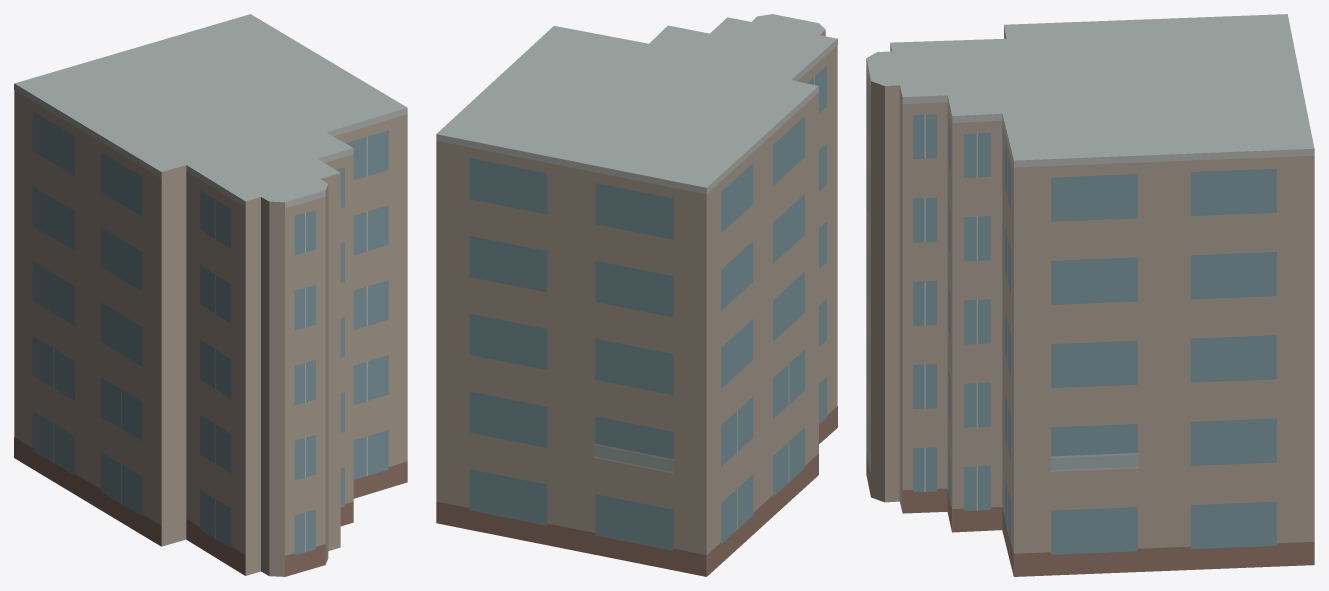
File: survey-upis-33018526.glb
3 renders of one model, left to right at view 1: azimuth 30°, elevation 25°; view 2: azimuth 150°, elevation 25°; view 3: azimuth 270°, elevation 25°, orthographic. The views are drawn at different scales.
Visible parts, largest first — view 1: survey-upis-33018526.tmp; view 2: survey-upis-33018526.tmp; view 3: survey-upis-33018526.tmp.
Boxes of the visible parts, box(x1,y1,x2,y2) form: survey-upis-33018526.tmp: box(14, 14, 407, 576); survey-upis-33018526.tmp: box(436, 14, 837, 576); survey-upis-33018526.tmp: box(866, 14, 1314, 576).
Bounding box in the file's own units: 10.96 × 14.5 × 14.15.
